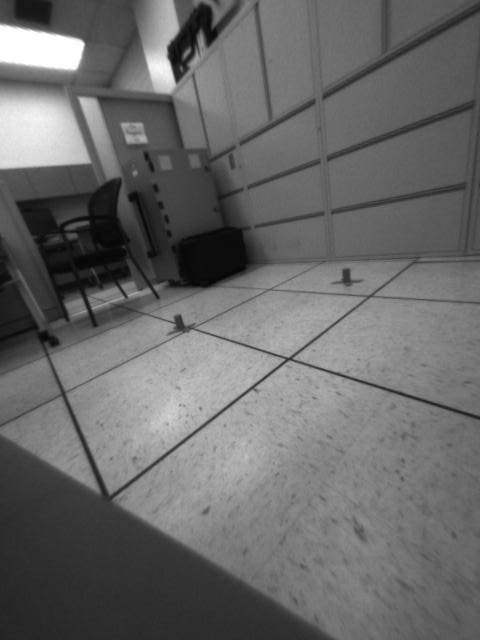X: (329, 266, 366, 288), (165, 312, 197, 337)
